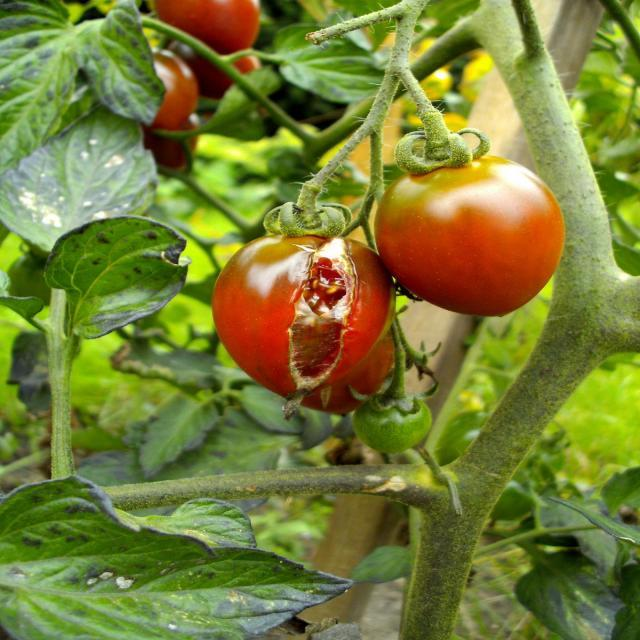TOMATO: (216, 228, 416, 412), (378, 156, 574, 314), (88, 20, 214, 152), (96, 20, 192, 162), (109, 42, 203, 126), (146, 2, 272, 50), (168, 12, 173, 26)
